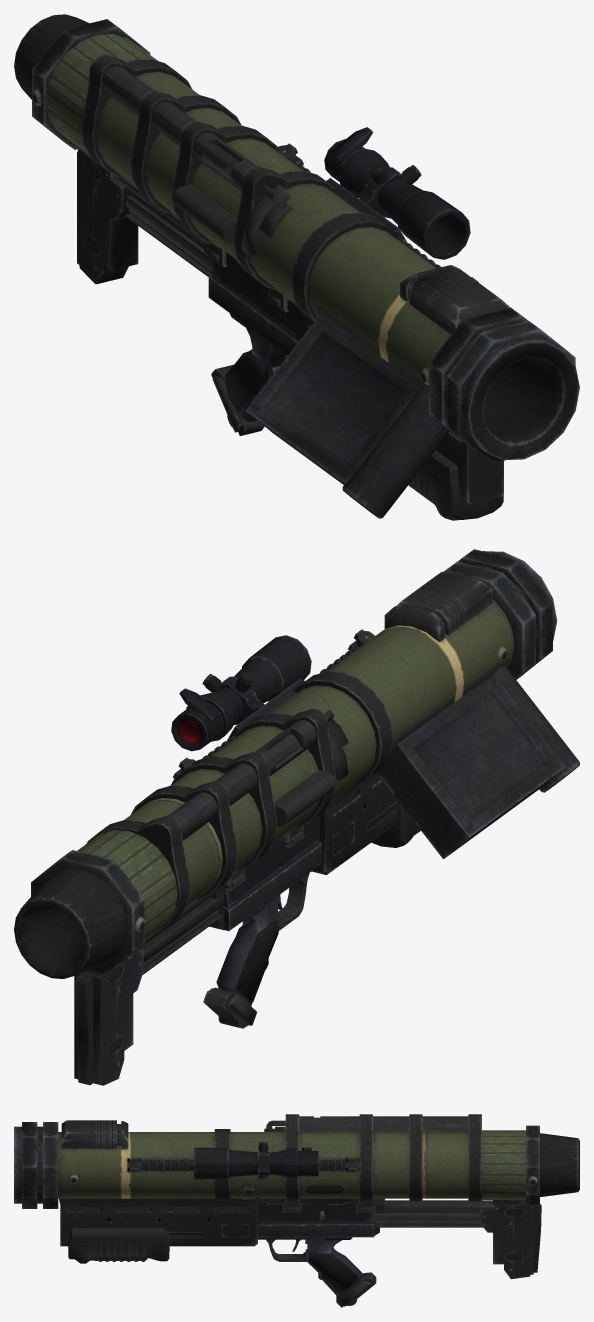
File: rocketlauncher.obj
3 renders of one model, top to bottom at view 1: azimuth 30°, elevation 25°; view 2: azimuth 150°, elevation 25°; view 3: azimuth 270°, elevation 25°, orthographic. The views are drawn at different scales.
Size of the model in its own units: 0.2427 by 0.3073 by 0.8648.
1 material, 1 textured.
